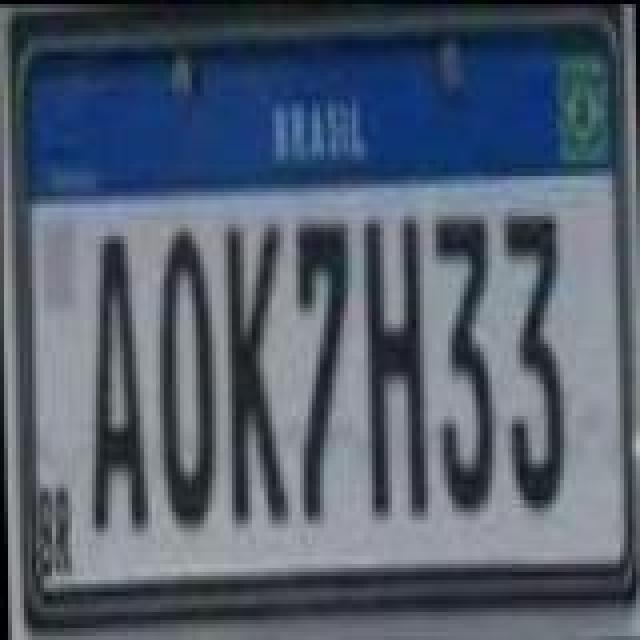3: (434, 210, 498, 518), (504, 208, 564, 512)
7: (292, 214, 352, 526)
A: (84, 226, 148, 542)
H: (360, 216, 428, 520)
K: (226, 218, 290, 534)
O: (154, 224, 218, 536)
